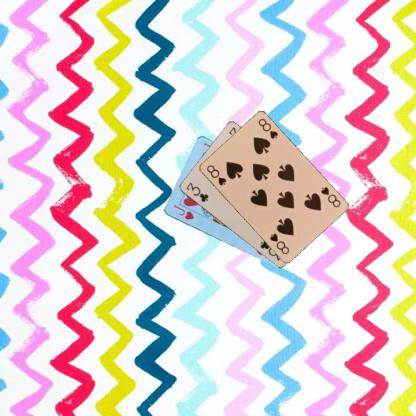3c: (183, 180, 210, 203)
8s: (204, 162, 227, 187), (318, 184, 341, 208)
Jh: (170, 202, 195, 221)
